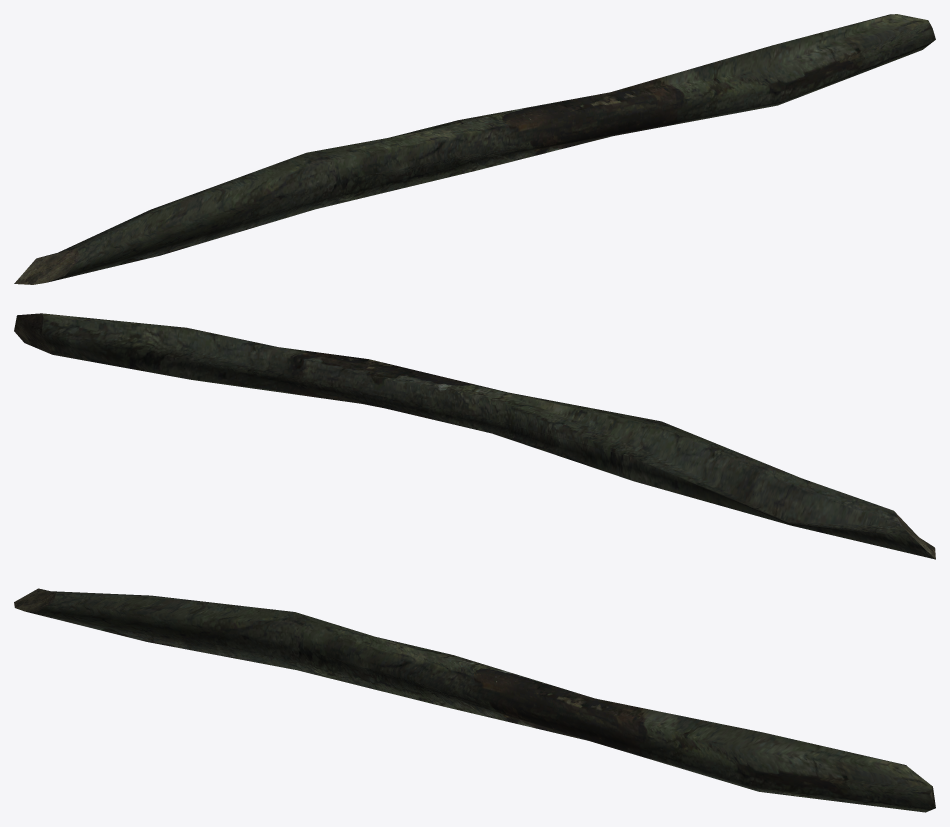
Rendered from prop_log_af.FBX.
3 views of the same model, one above another, from view 1: azimuth 30°, elevation 25°; view 2: azimuth 150°, elevation 25°; view 3: azimuth 330°, elevation 25° (orthographic).
Parts seen in each view (by area): view 1: prop_log_af; view 2: prop_log_af; view 3: prop_log_af.
Boxes of the visible parts, <box> form: prop_log_af: <box>14,14,935,284</box>; prop_log_af: <box>14,313,935,559</box>; prop_log_af: <box>14,588,935,812</box>.
Bounding box in the file's own units: 4.18 × 0.2705 × 0.292.
1 material, 1 textured.
